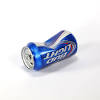can: (21, 28, 80, 72)
